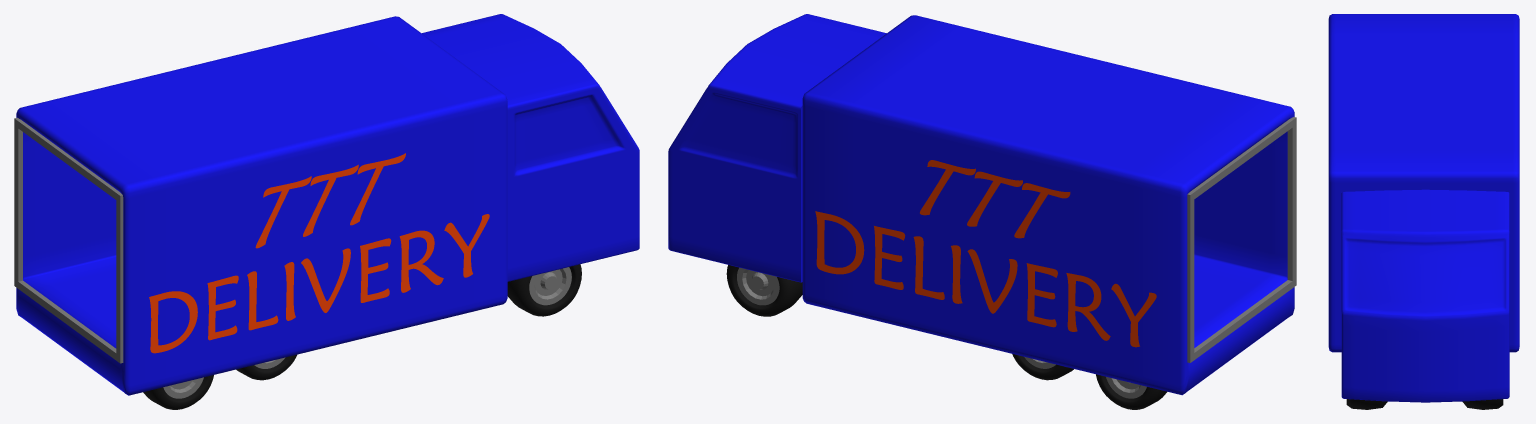
The model's file is Truck_for_leif.FBX.
3 views of the same model, side by side, from view 1: azimuth 30°, elevation 25°; view 2: azimuth 150°, elevation 25°; view 3: azimuth 270°, elevation 25° (orthographic). The views are drawn at different scales.
Visible parts, largest first — view 1: Delivery_van; view 2: Delivery_van; view 3: Delivery_van.
Boxes of the visible parts, x1,y1,x2,y2 form: Delivery_van: [14, 14, 639, 409]; Delivery_van: [668, 14, 1296, 409]; Delivery_van: [1328, 14, 1519, 409].
Size of the model in its own units: 484 by 210 by 178.
